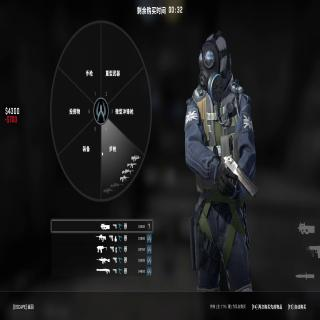CT-Body: (185, 32, 259, 286)
CT-Head: (198, 33, 228, 93)
